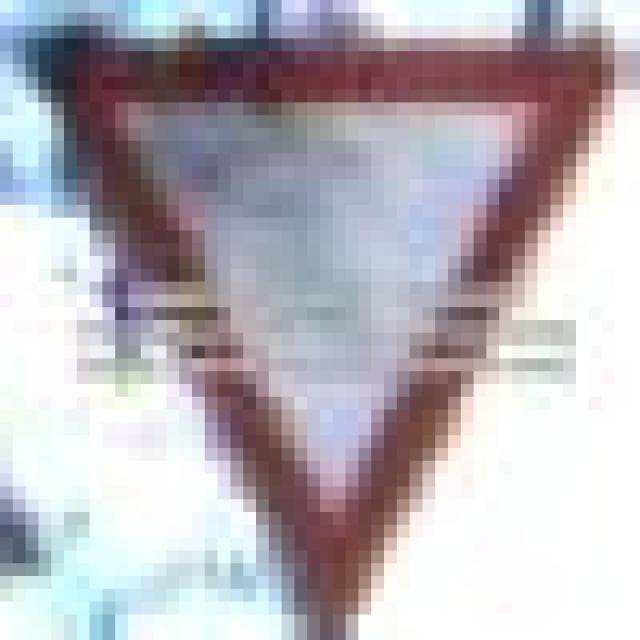gap_in_median: (26, 26, 627, 627)
